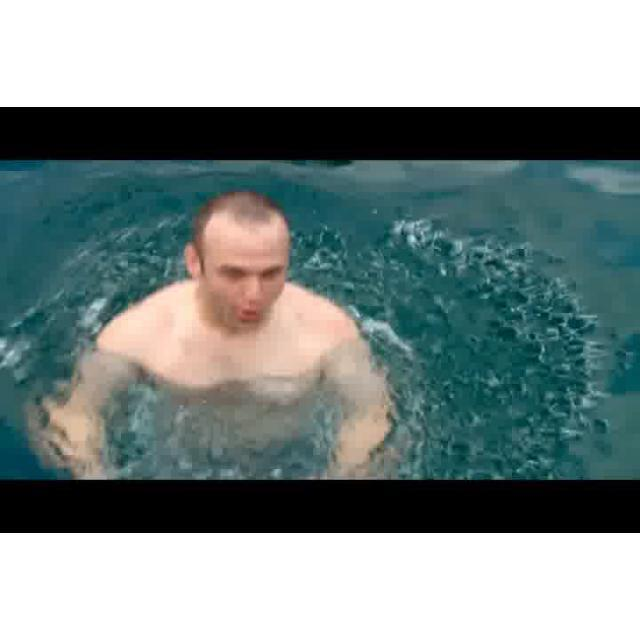human: (37, 189, 403, 482)
